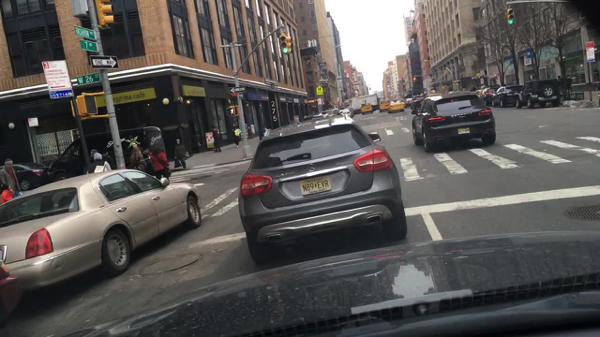car: (238, 116, 407, 264), (0, 169, 201, 293), (46, 126, 166, 182), (411, 94, 495, 152), (0, 261, 22, 325), (1, 162, 47, 191), (521, 79, 560, 108), (491, 85, 524, 108), (483, 86, 499, 106), (387, 100, 404, 114), (410, 96, 424, 109), (359, 103, 373, 115), (378, 99, 390, 112), (302, 114, 321, 121), (322, 110, 338, 117), (340, 109, 352, 117), (463, 90, 475, 96), (405, 98, 412, 107), (475, 88, 482, 97), (425, 93, 440, 97), (348, 107, 354, 116), (448, 90, 460, 94)
person: (0, 159, 21, 198), (151, 147, 170, 181), (173, 139, 192, 169), (65, 145, 81, 178), (86, 154, 111, 175), (82, 148, 97, 175), (130, 148, 146, 171), (142, 150, 155, 177), (209, 125, 222, 152), (102, 147, 115, 171), (1, 182, 14, 205), (232, 122, 240, 147), (556, 75, 565, 93), (132, 141, 144, 154), (258, 122, 266, 140), (565, 75, 573, 93)
traffic light: (70, 95, 99, 118), (95, 1, 115, 25), (280, 35, 288, 55), (286, 36, 294, 55), (506, 7, 514, 25), (226, 107, 235, 116), (412, 75, 417, 82), (441, 84, 446, 91)
traffic sign: (88, 55, 118, 69), (77, 74, 101, 87), (74, 26, 97, 39), (80, 38, 99, 51), (316, 84, 323, 96), (229, 88, 245, 93), (238, 93, 244, 98), (452, 79, 460, 82)
truck: (344, 93, 378, 115)
